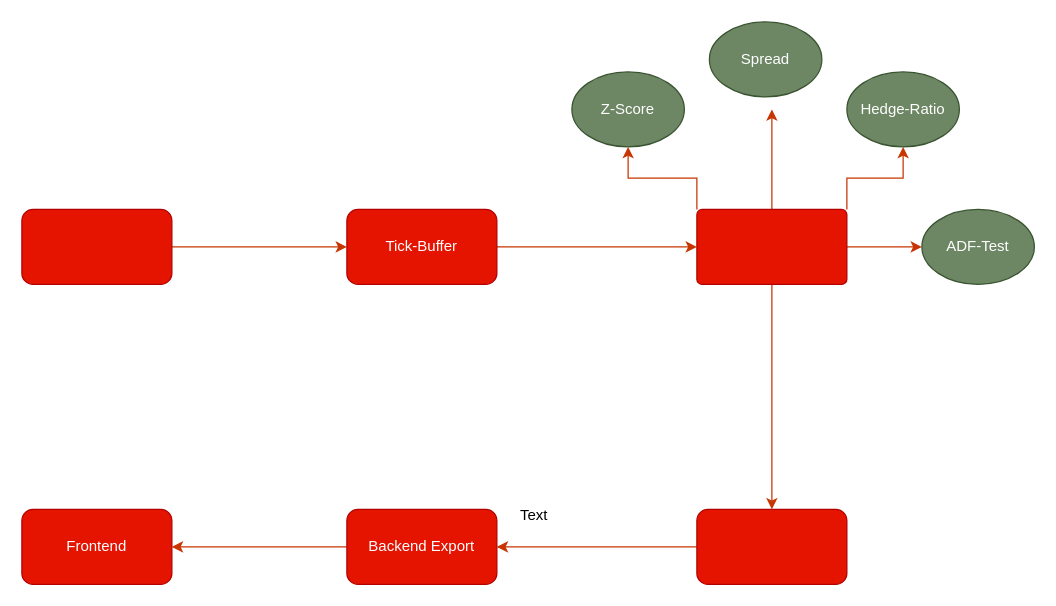
The diagram is 1056 pixels wide and 606 high, and some of its shapes have lost their labels. Each missing label, with the centre of its shape:
"Analytics Engine" belongs at [771,246].
"SQLite DB" belongs at [771,546].
"Web-Socket" belongs at [96,246].
